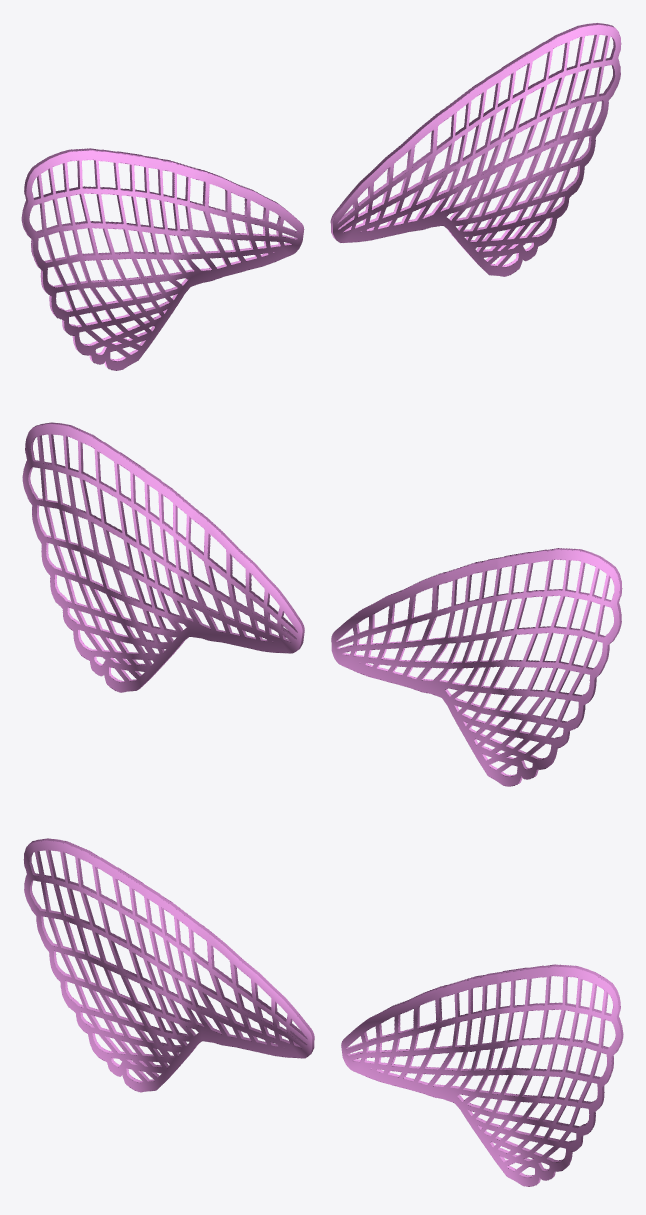
File: wings.fbx
3 renders of one model, top to bottom at view 1: azimuth 30°, elevation 25°; view 2: azimuth 150°, elevation 25°; view 3: azimuth 330°, elevation 25°, orthographic.
Visible parts, largest first — view 1: Wings; view 2: Wings; view 3: Wings.
Part boxes in pixels (x1,y1,x2,y2): Wings: (21,23,621,370); Wings: (22,422,622,786); Wings: (23,838,623,1186).
Bounding box in the file's own units: 335 × 135 × 13.73.
